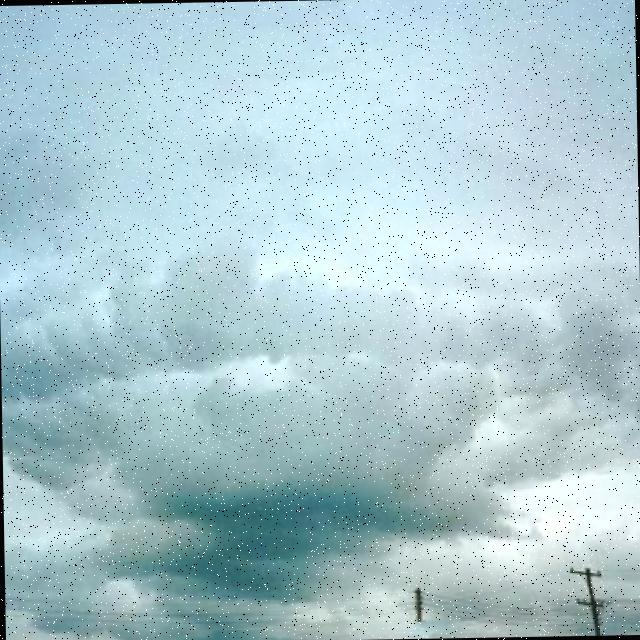Sc: (1, 50, 640, 529)
